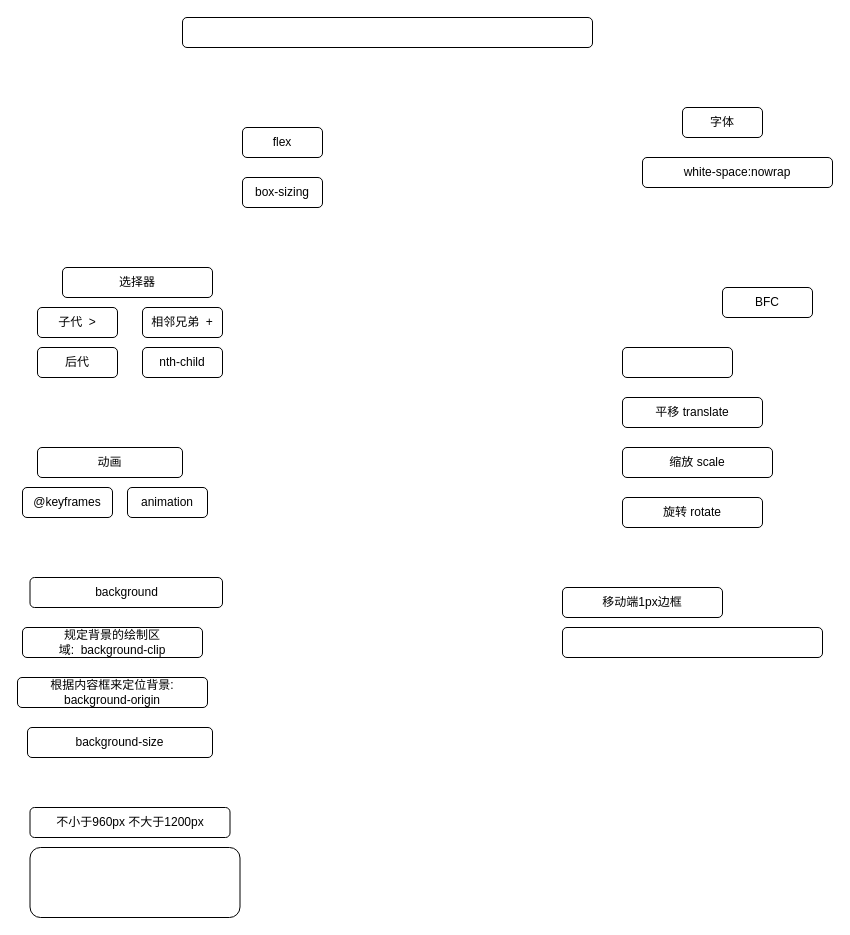
This 850x935 diagram has some shape labels left out. The shapes that lost their labels are listed below. From the top down, each one's centre as x and y in pixels, then its label:
(x=387, y=32): CSS
(x=677, y=362): transform
(x=692, y=642): 伪元素 attr 抓取data-*属性适配content
(x=134, y=882): @media screen and (min-width:960px) and (max-width:1200px)
